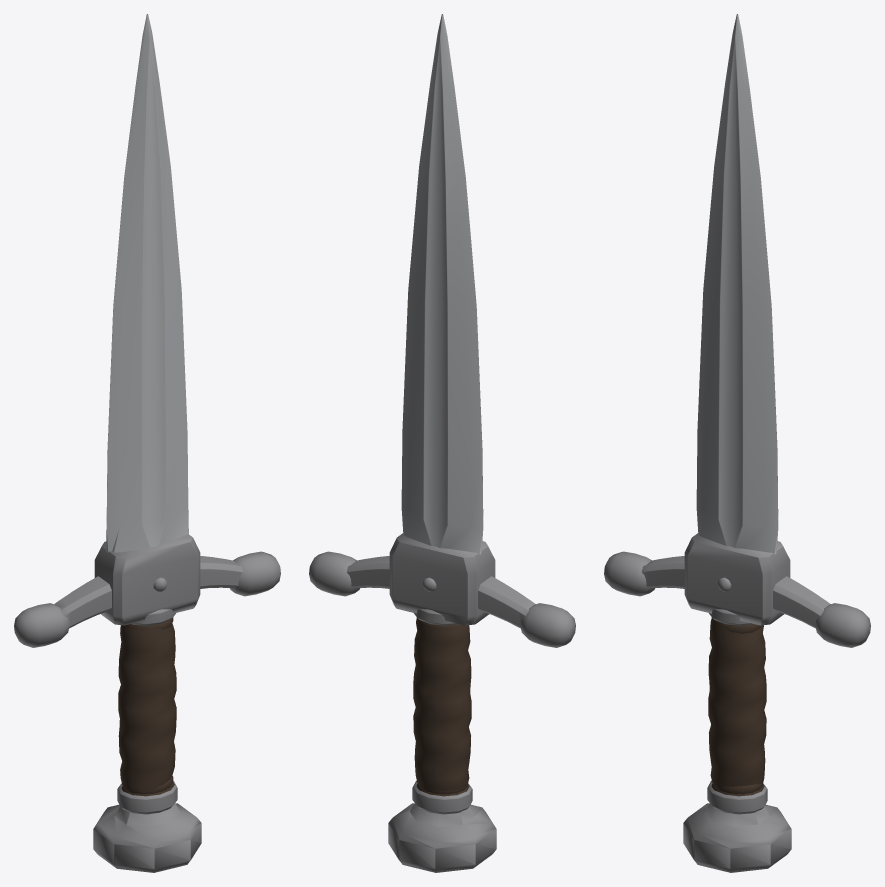
File: gear_dagger.glb
The picture shows the model from 3 angles, left to right: view 1: azimuth 30°, elevation 25°; view 2: azimuth 150°, elevation 25°; view 3: azimuth 330°, elevation 25°; orthographic projection.
Parts seen in each view (by area): view 1: gear_dagger; view 2: gear_dagger; view 3: gear_dagger.
Boxes of the visible parts, x1=… form: gear_dagger: x1=14, y1=14, x2=280, y2=872; gear_dagger: x1=309, y1=14, x2=575, y2=872; gear_dagger: x1=604, y1=14, x2=870, y2=872.
Bounding box in the file's own units: 0.134 × 0.4208 × 0.0451.
